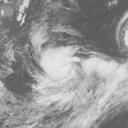cyclone: (26, 25, 126, 127)
